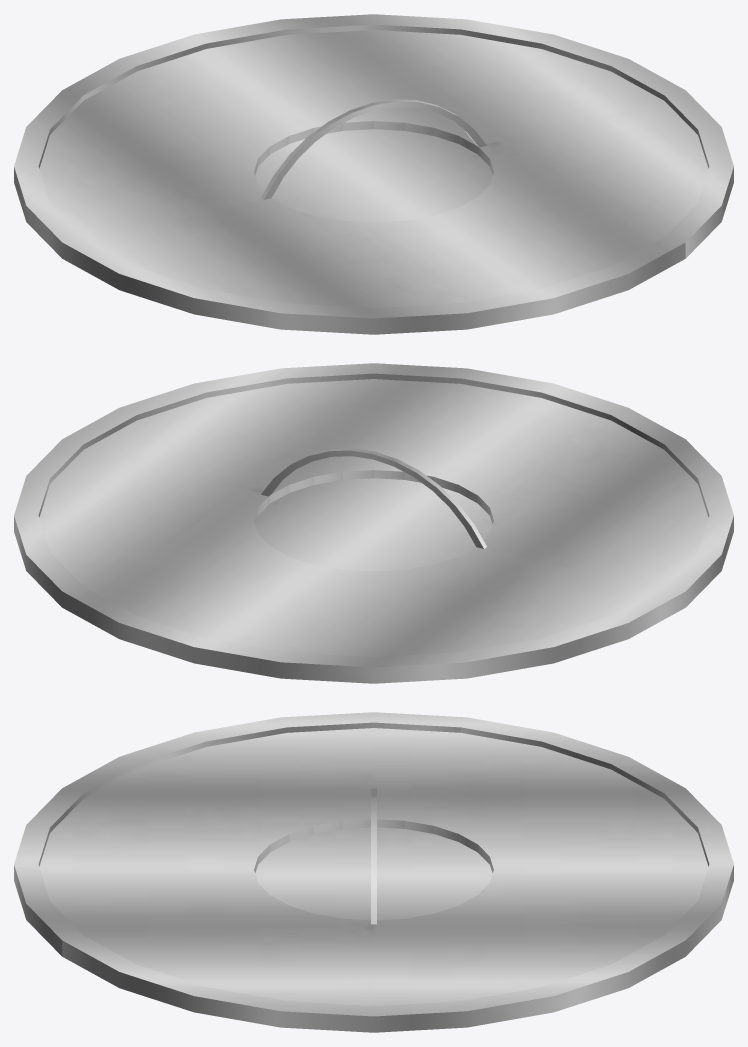
The model's file is pot_top.dae.
3 renders of one model, top to bottom at view 1: azimuth 30°, elevation 25°; view 2: azimuth 150°, elevation 25°; view 3: azimuth 270°, elevation 25°, orthographic.
Parts seen in each view (by area): view 1: SketchUp (×4); view 2: SketchUp (×4); view 3: SketchUp (×4).
Boxes of the visible parts, <box> form: SketchUp (×4): <box>14,14,733,334</box>; SketchUp (×4): <box>14,363,733,683</box>; SketchUp (×4): <box>14,712,733,1032</box>.
Size of the model in its own units: 4.73 by 4.73 by 0.6102.
2 materials, 1 textured.
